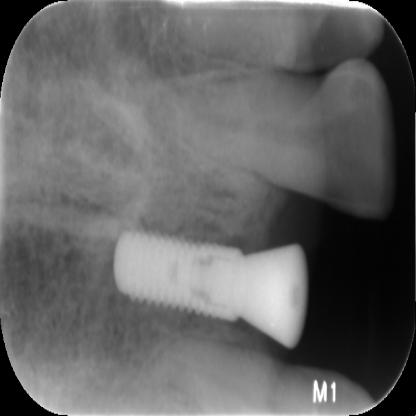ITI: (114, 217, 246, 330)
